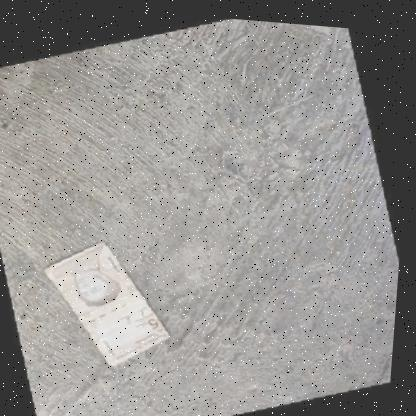five-front-vef: (36, 224, 185, 378)
